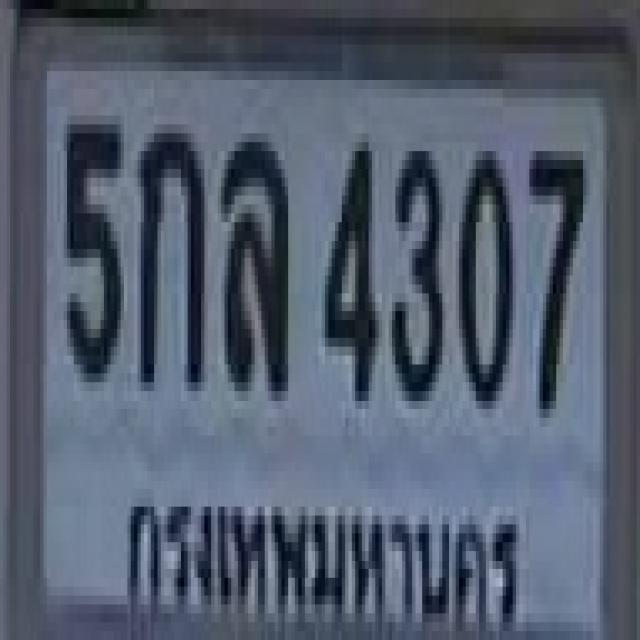0: (456, 142, 509, 400)
3: (389, 142, 439, 391)
4: (322, 133, 375, 391)
5: (64, 115, 117, 374)
7: (526, 142, 583, 409)
A01: (137, 120, 201, 378)
A36: (218, 134, 285, 382)
BKK: (117, 466, 522, 640)
